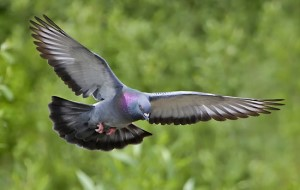pigeon: (27, 11, 287, 153)
